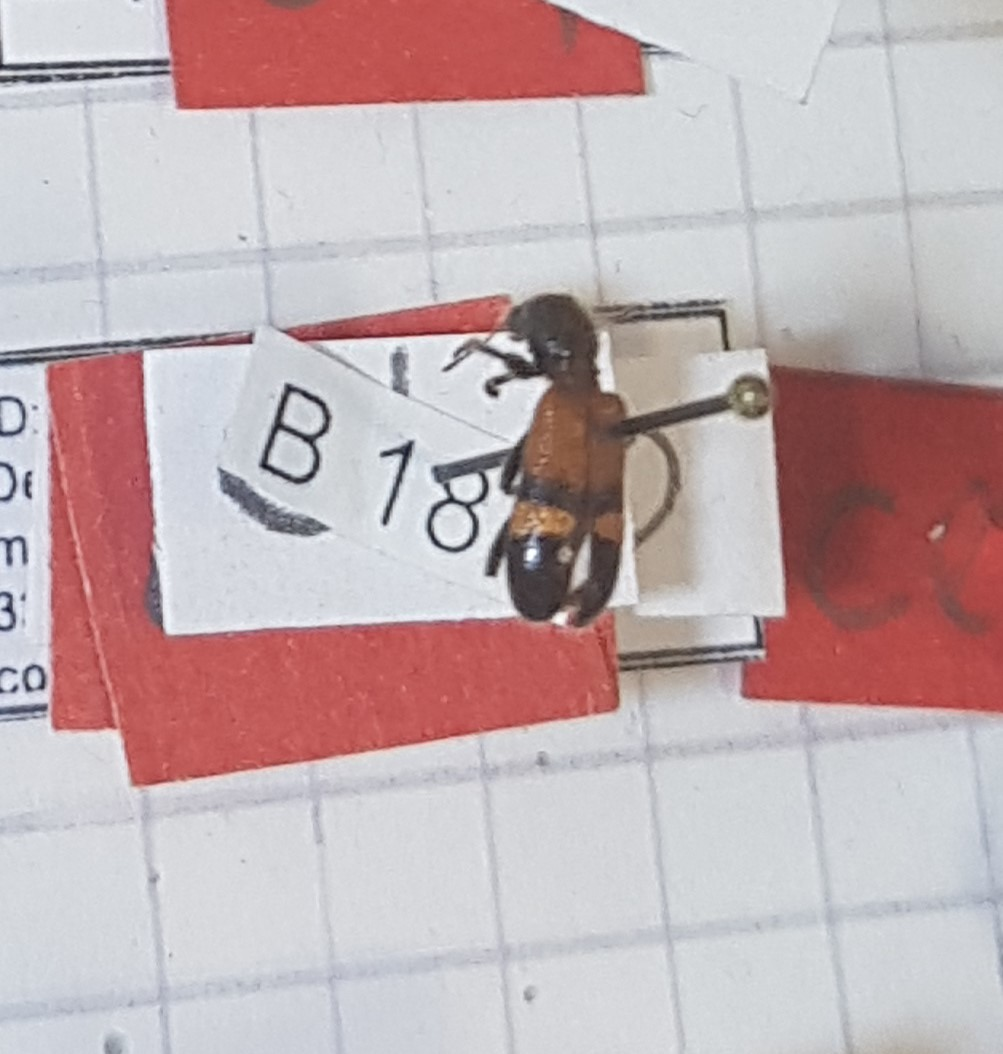opilo_taeniatus: (440, 292, 648, 635)
